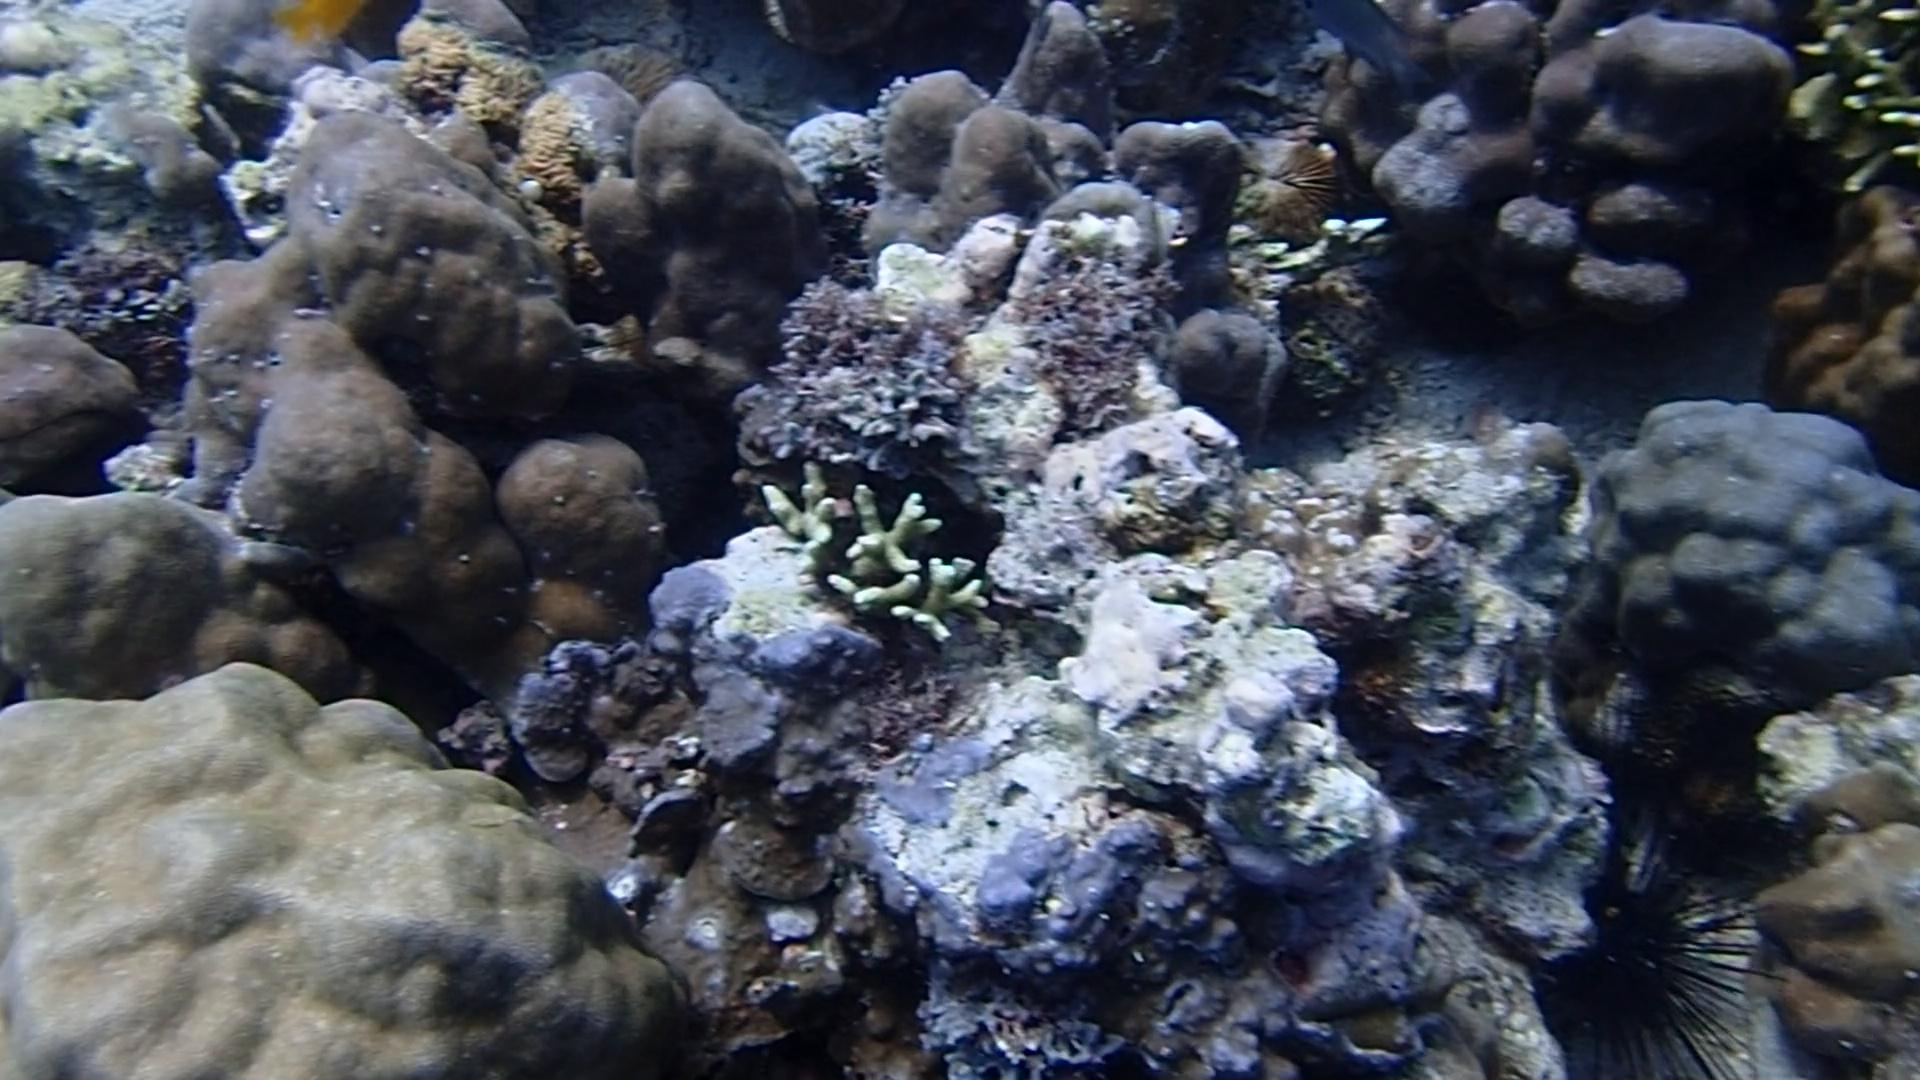Blue Fish Two: (1304, 0, 1449, 95)
Yellow Fish: (281, 0, 382, 61)
